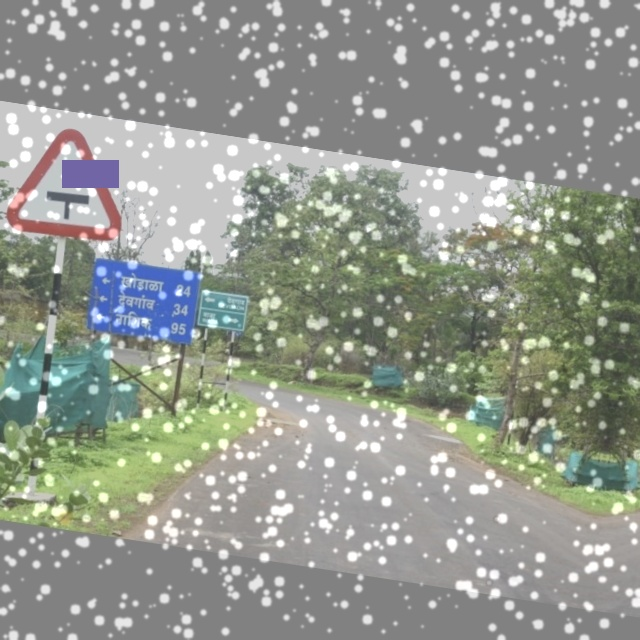T_Intersection: (8, 118, 138, 245)
